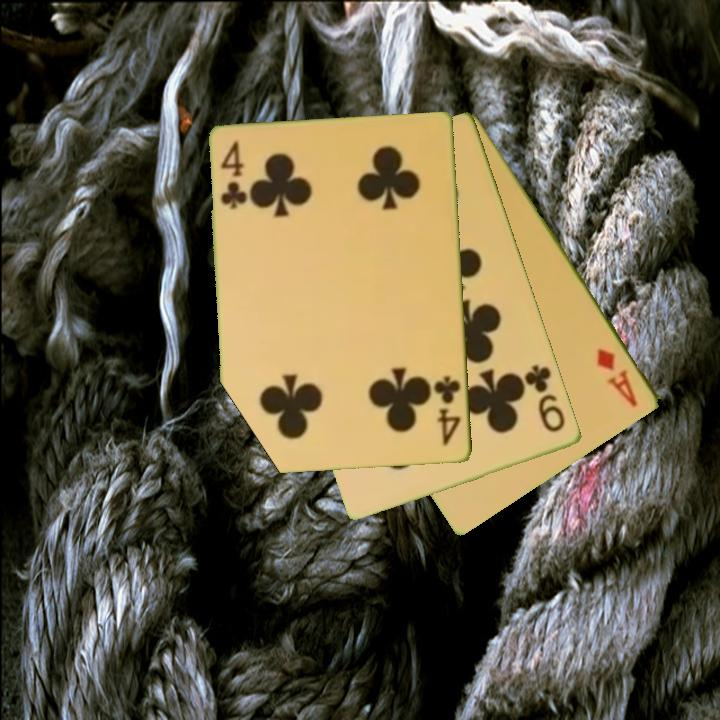4c: (431, 373, 464, 449), (217, 137, 248, 212)
9c: (521, 361, 569, 436)
Ad: (593, 344, 641, 411)
